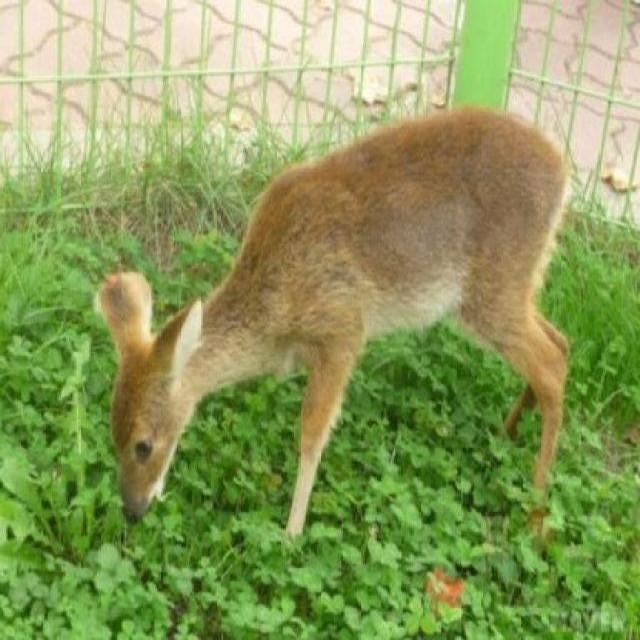deer: (97, 98, 574, 538)
